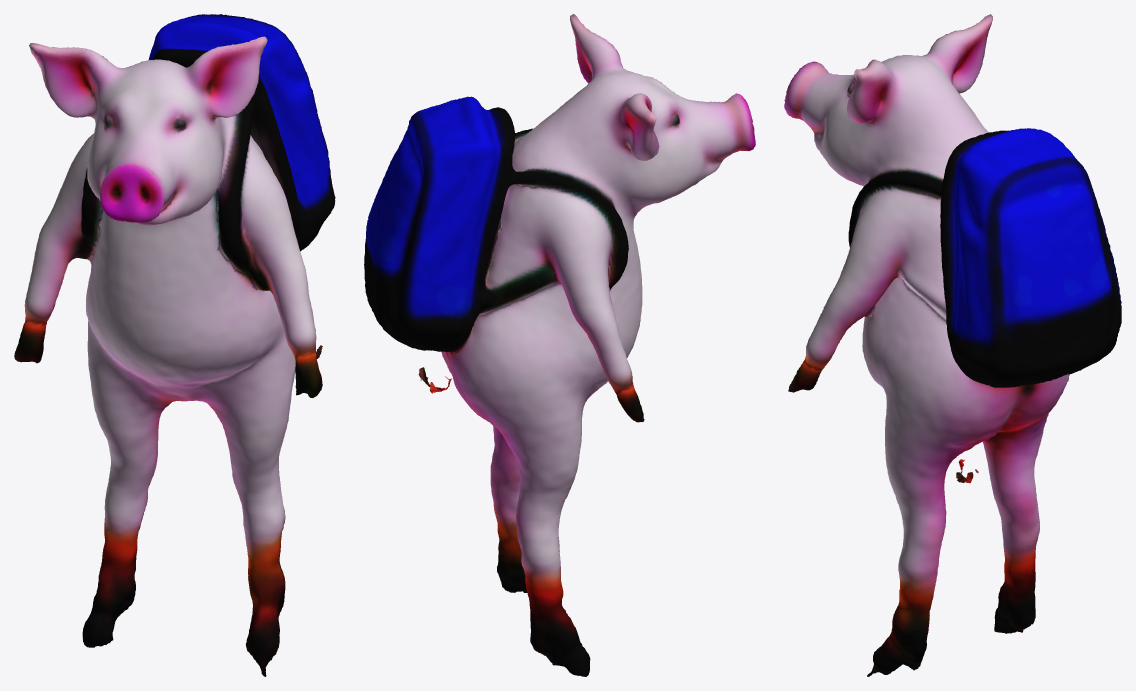
Rendered from 44844973_sept18_hero14_076a_pig_wearing_a_backpack_1step.glb.
3 views of the same model, side by side, from view 1: azimuth 30°, elevation 25°; view 2: azimuth 150°, elevation 25°; view 3: azimuth 270°, elevation 25° (orthographic). The views are drawn at different scales.
Visible parts, largest first — view 1: world; view 2: world; view 3: world.
Part boxes in pixels (x1,y1,x2,y2): world: (14,14,335,676); world: (364,14,755,676); world: (784,14,1121,676).
Size of the model in its own units: 2.91 by 5.54 by 2.8.
